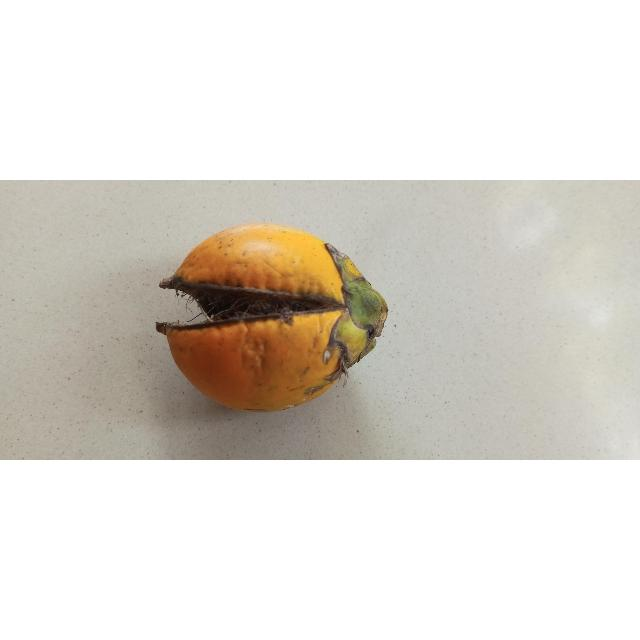damaged: (155, 224, 390, 414)
